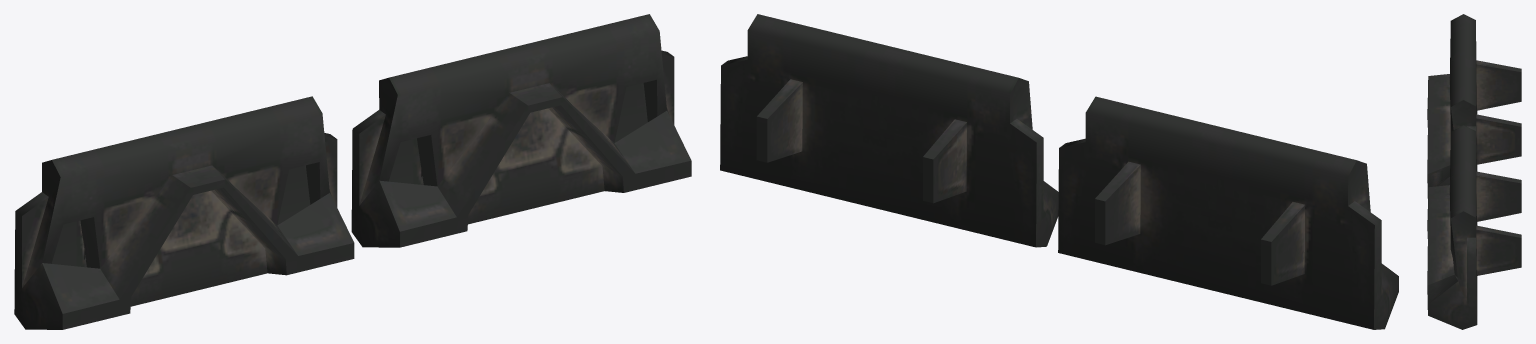
The picture shows the model from 3 angles, left to right: view 1: azimuth 30°, elevation 25°; view 2: azimuth 150°, elevation 25°; view 3: azimuth 270°, elevation 25°; orthographic projection. The views are drawn at different scales.
Visible parts, largest first — view 1: set_0_group_0; view 2: set_0_group_0; view 3: set_0_group_0.
Part boxes in pixels (x1,y1,x2,y2): set_0_group_0: (14, 14, 691, 329); set_0_group_0: (720, 14, 1398, 329); set_0_group_0: (1427, 14, 1521, 329).
Bounding box in the file's own units: 0.7834 × 0.1865 × 0.1453.
Materials: 1 (1 with a texture image).
